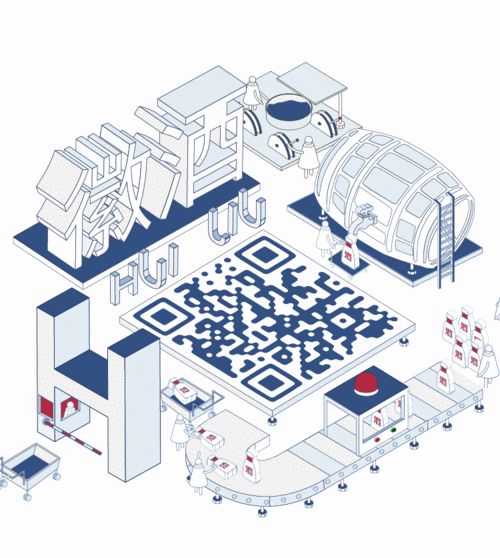QRCode: (135, 230, 402, 403)
